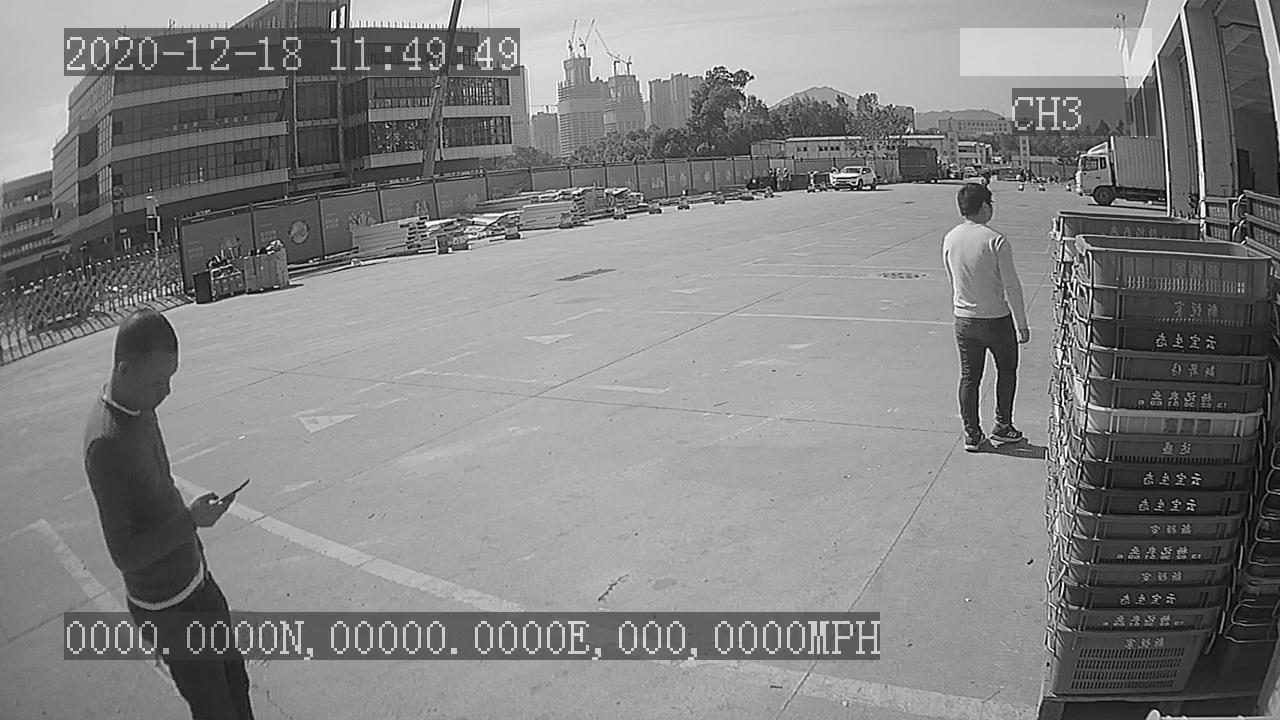person: (933, 179, 1033, 456)
